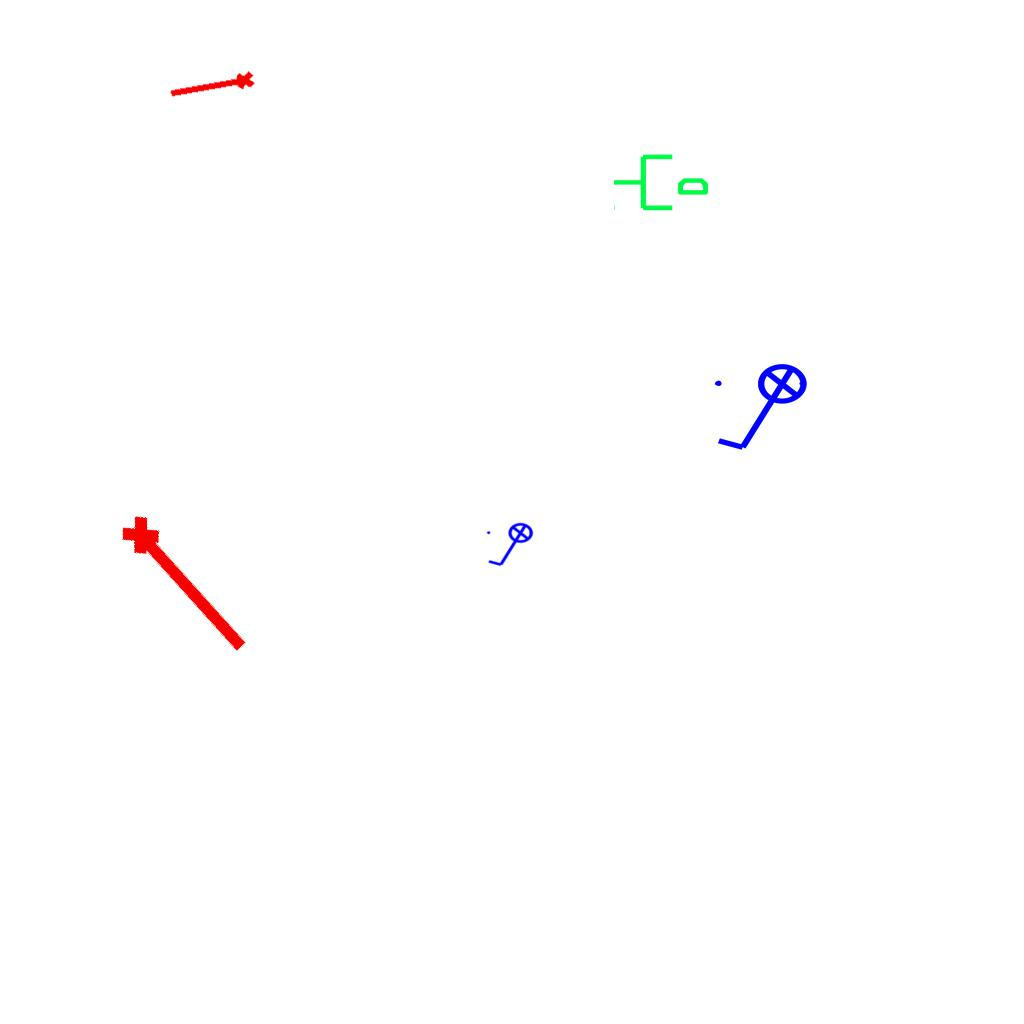ASR_Ansaugoeffnung: (112, 503, 264, 665), (166, 68, 258, 107)
Ausschalter_beleuchtet: (709, 362, 821, 458), (484, 522, 540, 570)
Datenanschluss_einfach: (611, 146, 711, 215)
